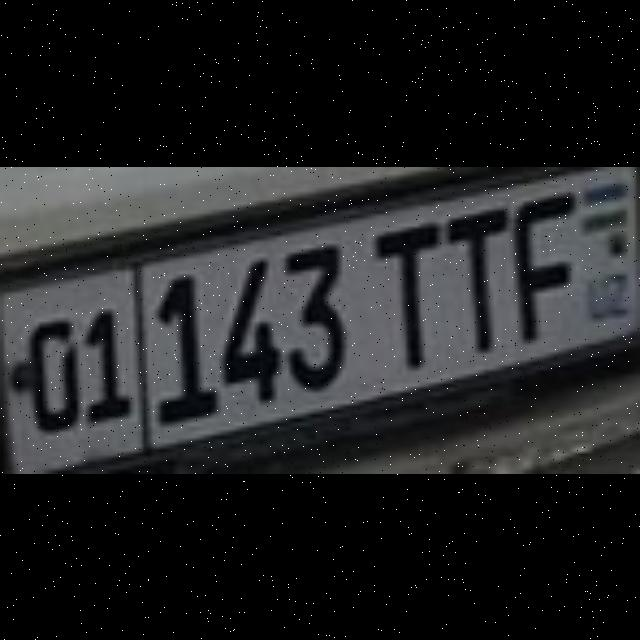0: (26, 313, 74, 425)
1: (146, 270, 212, 420), (78, 304, 126, 422)
3: (276, 240, 342, 386)
4: (216, 252, 276, 400)
F: (510, 187, 576, 343)
T: (436, 205, 502, 348), (368, 218, 432, 364)
